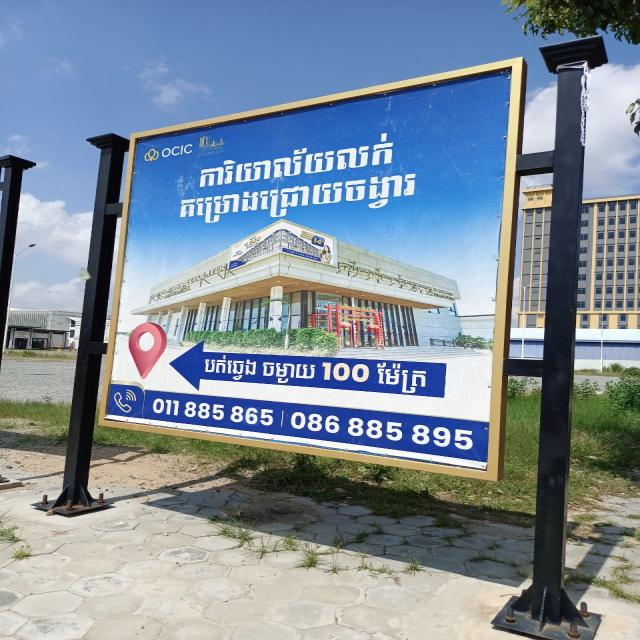1: (199, 352, 317, 386)
241: (147, 394, 479, 460)
534: (317, 358, 371, 389)
Yolov11_80vkh: (173, 169, 424, 228), (194, 126, 399, 191), (370, 360, 432, 394)
